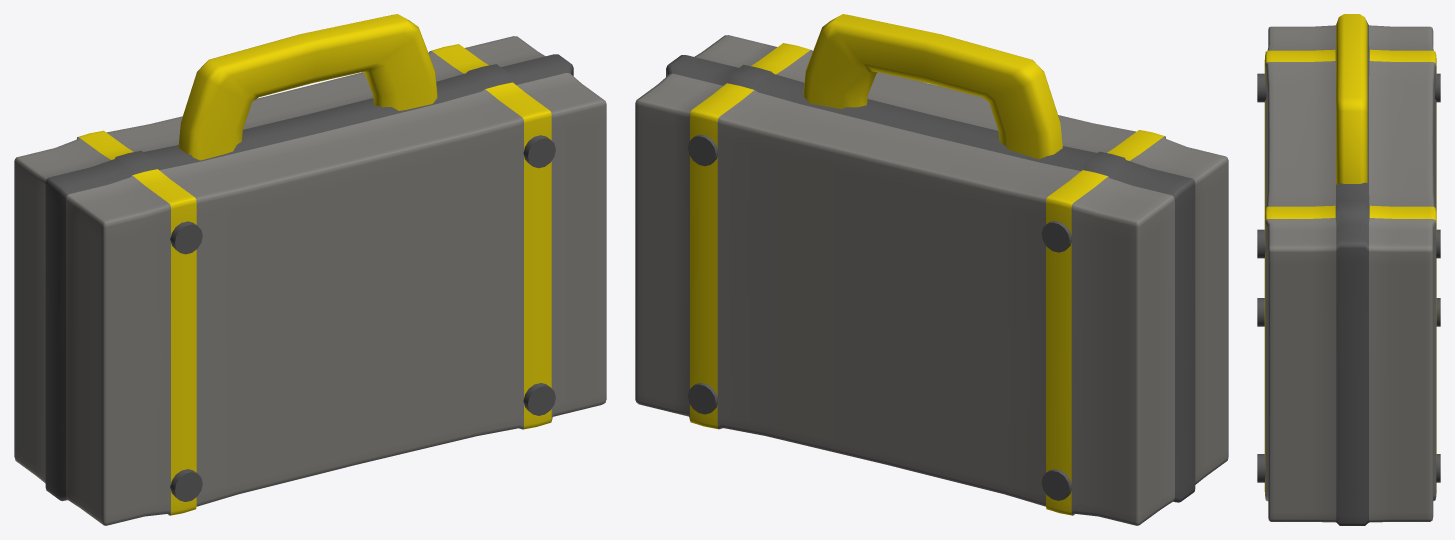
File: Briefcase.fbx
The picture shows the model from 3 angles, left to right: view 1: azimuth 30°, elevation 25°; view 2: azimuth 150°, elevation 25°; view 3: azimuth 270°, elevation 25°; orthographic projection. The views are drawn at different scales.
Parts seen in each view (by area): view 1: pCylinder9; view 2: pCylinder9; view 3: pCylinder9.
Part boxes in pixels (x1,y1,x2,y2): pCylinder9: [14, 14, 606, 525]; pCylinder9: [635, 14, 1228, 525]; pCylinder9: [1257, 14, 1440, 525].
Size of the model in its own units: 3.28 by 2.45 by 1.12.
